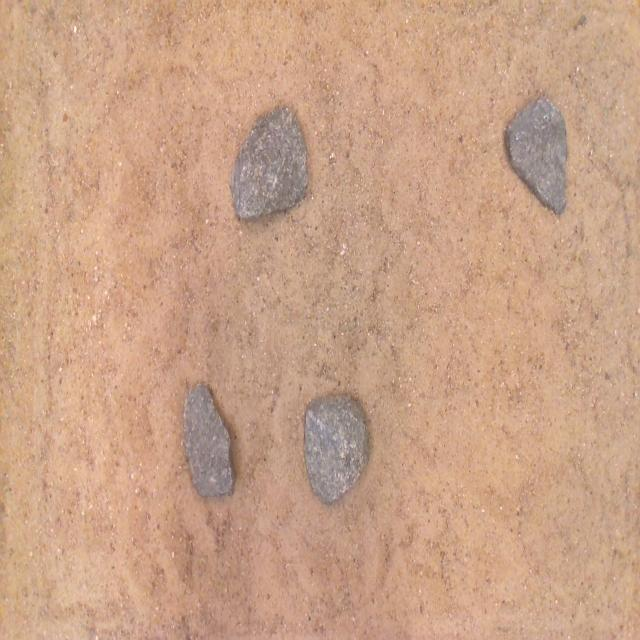rock: (230, 108, 308, 219), (505, 97, 567, 213), (304, 396, 369, 502), (184, 385, 233, 495)
